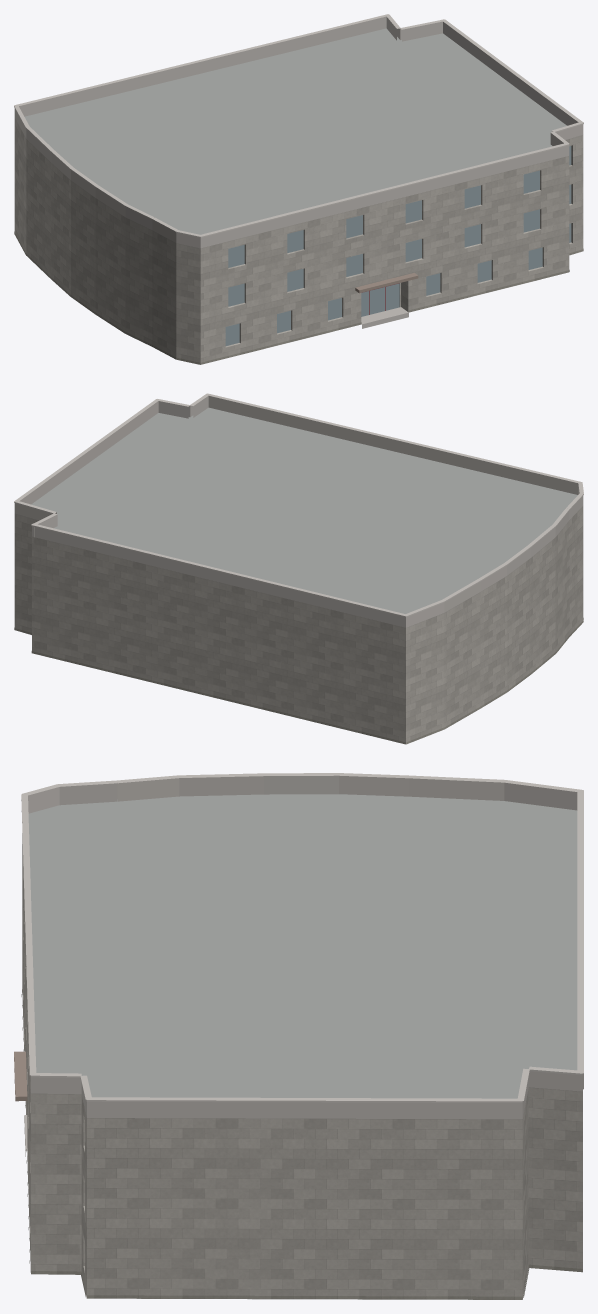
3 views of the same model, one above another, from view 1: azimuth 30°, elevation 25°; view 2: azimuth 150°, elevation 25°; view 3: azimuth 270°, elevation 25° (orthographic). The views are drawn at different scales.
Visible parts, largest first — view 1: osm136188879__roof, osm136188879__wall, osm136188879__parapet, osm136188879__glass, osm136188879__trim, osm136188879__base, osm136188879__entranceThreshold_0; view 2: osm136188879__wall, osm136188879__roof, osm136188879__parapet, osm136188879__trim, osm136188879__base; view 3: osm136188879__roof, osm136188879__wall, osm136188879__parapet, osm136188879__trim, osm136188879__base.
Boxes of the visible parts, x1,y1,x2,y2 form: osm136188879__roof: (24,28,566,234); osm136188879__wall: (14,118,583,364); osm136188879__parapet: (14,16,583,248); osm136188879__glass: (225,146,571,345); osm136188879__trim: (14,14,583,237); osm136188879__base: (14,231,583,364); osm136188879__entranceThreshold_0: (361,307,408,328); osm136188879__wall: (14,506,583,743); osm136188879__roof: (31,407,577,613); osm136188879__parapet: (14,395,583,627); osm136188879__trim: (14,393,583,617); osm136188879__base: (14,618,583,744); osm136188879__roof: (24,794,577,1299); osm136188879__wall: (22,835,582,1298); osm136188879__parapet: (28,775,583,1119); osm136188879__trim: (21,773,583,1102); osm136188879__base: (21,989,582,1299).
Size of the model in its own units: 42.18 by 12.3 by 30.94.
Materials: 10 (2 with a texture image).
